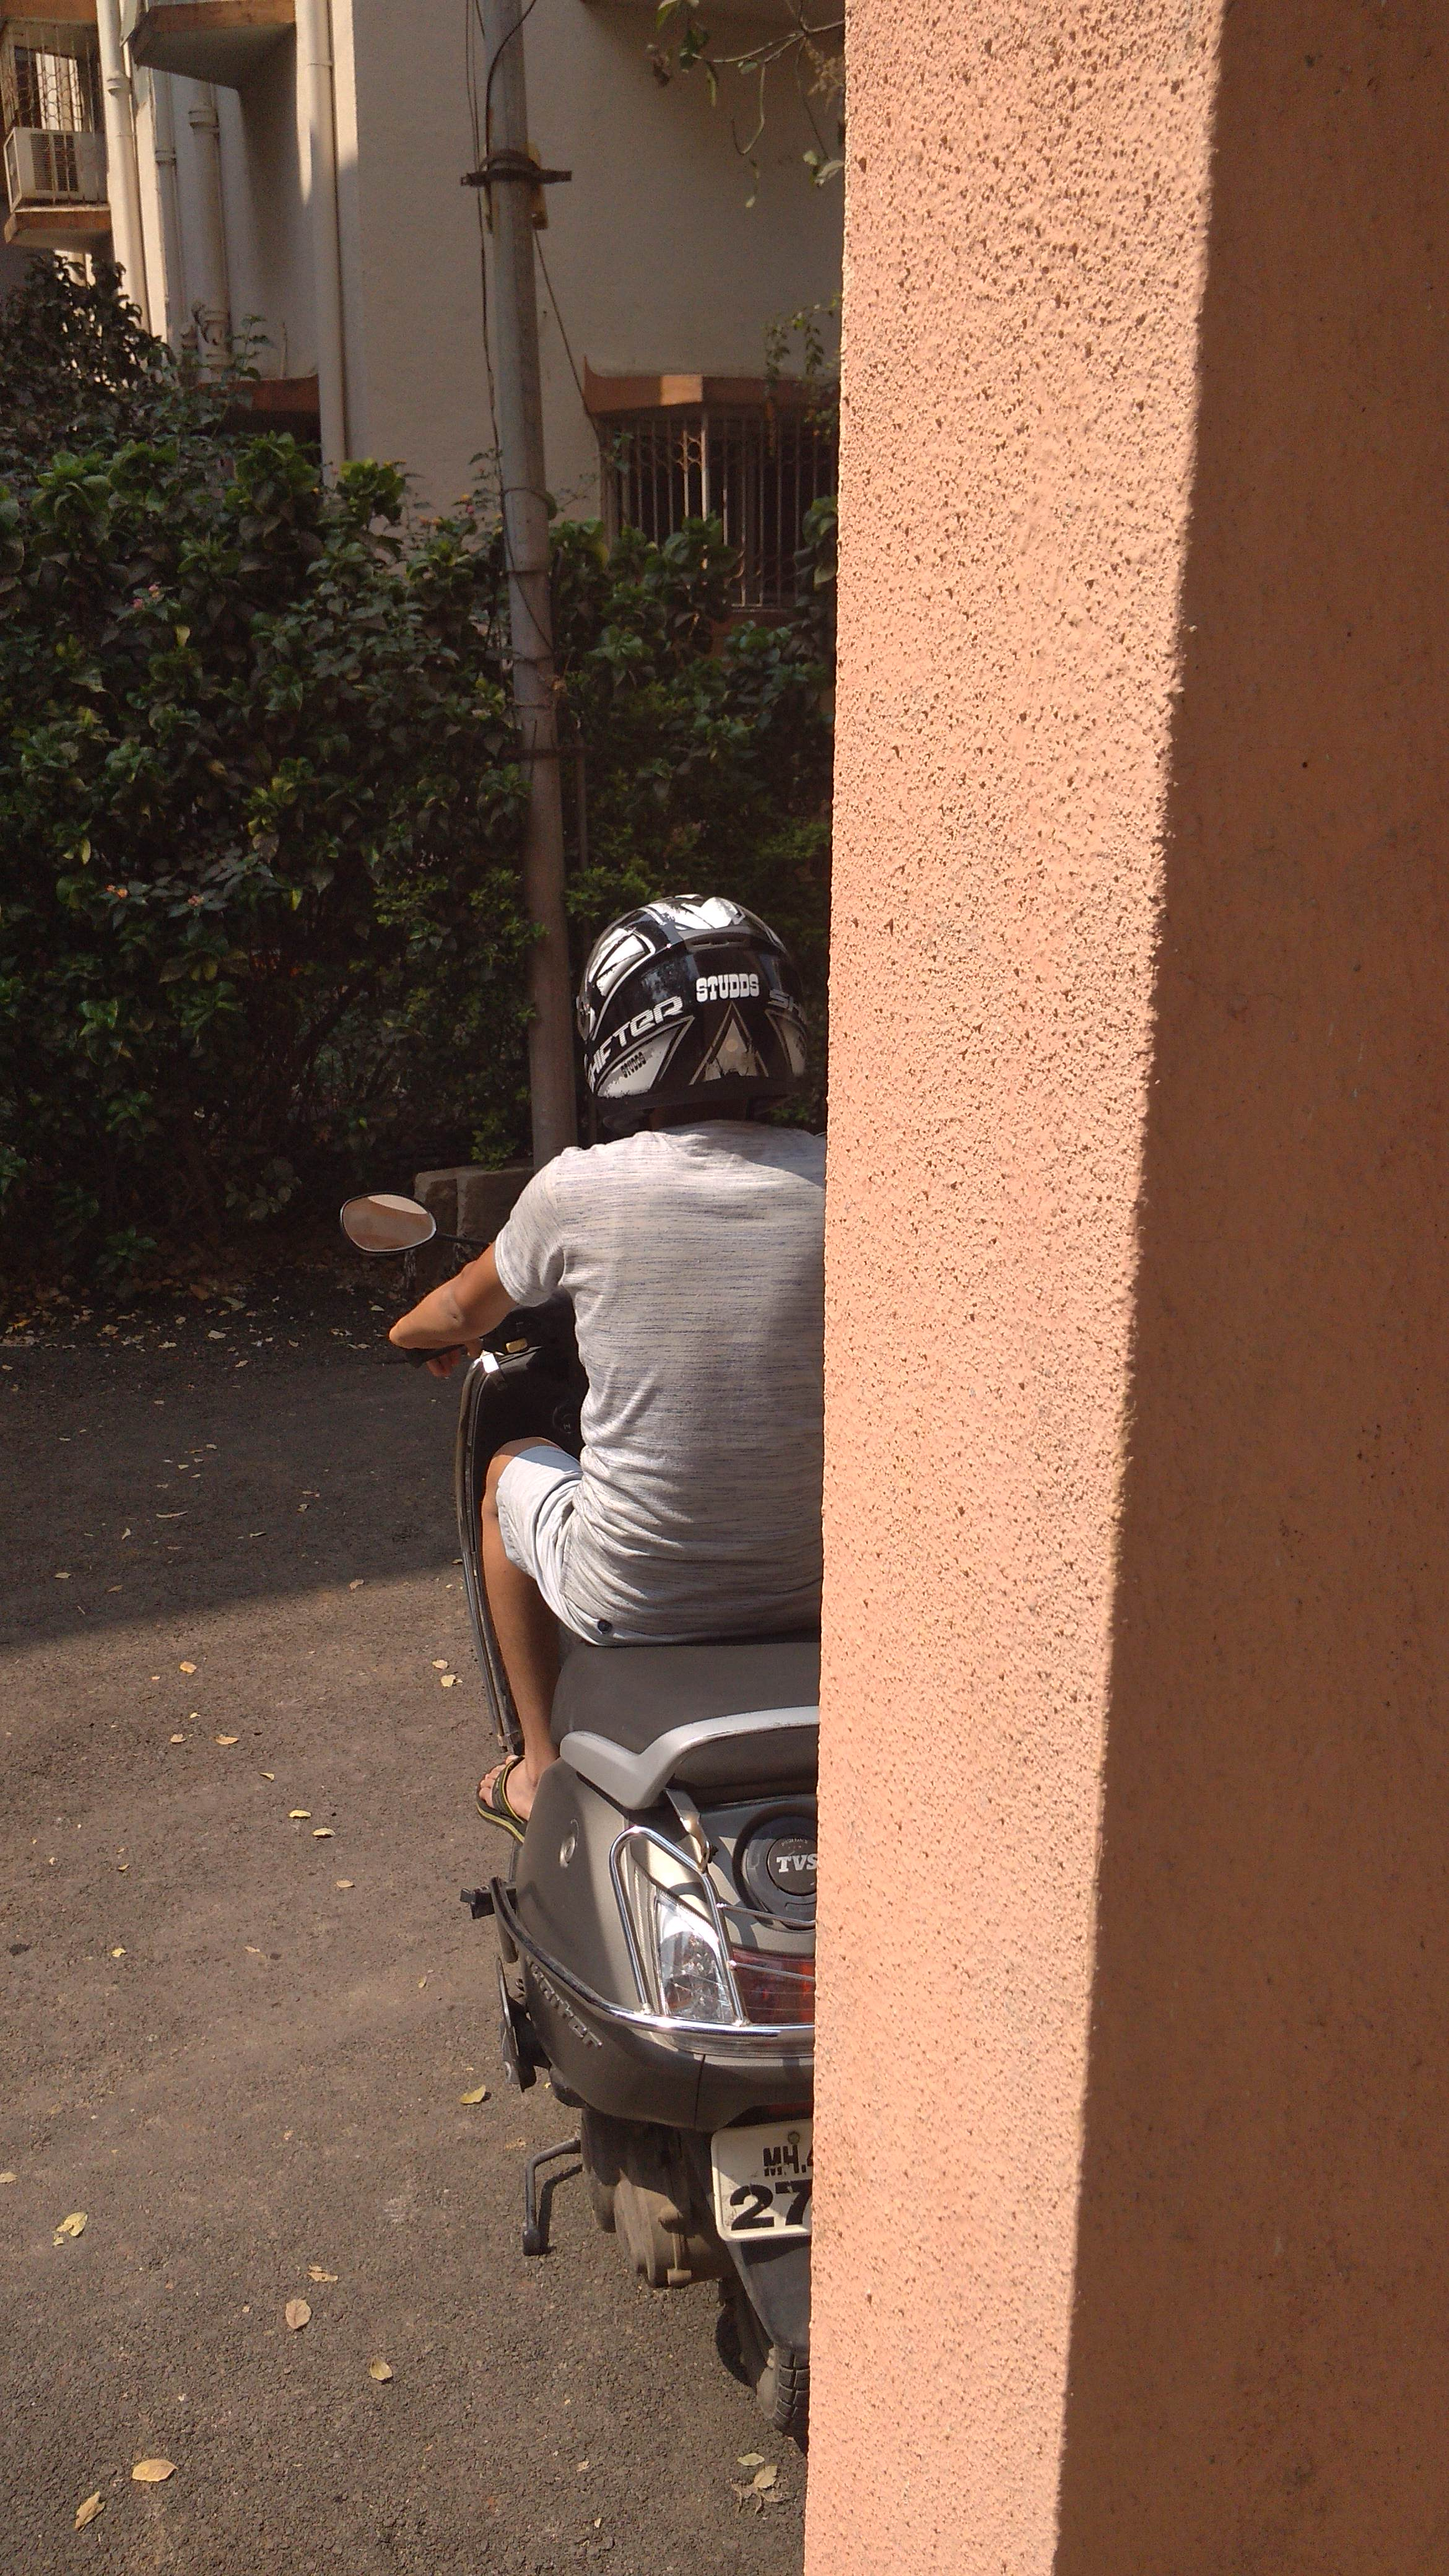helmet: (439, 833, 823, 1601)
